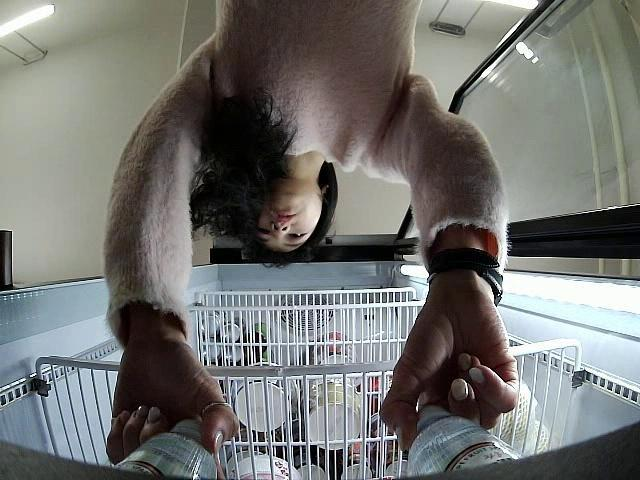18_trevi: (402, 402, 524, 480), (112, 420, 216, 480)
